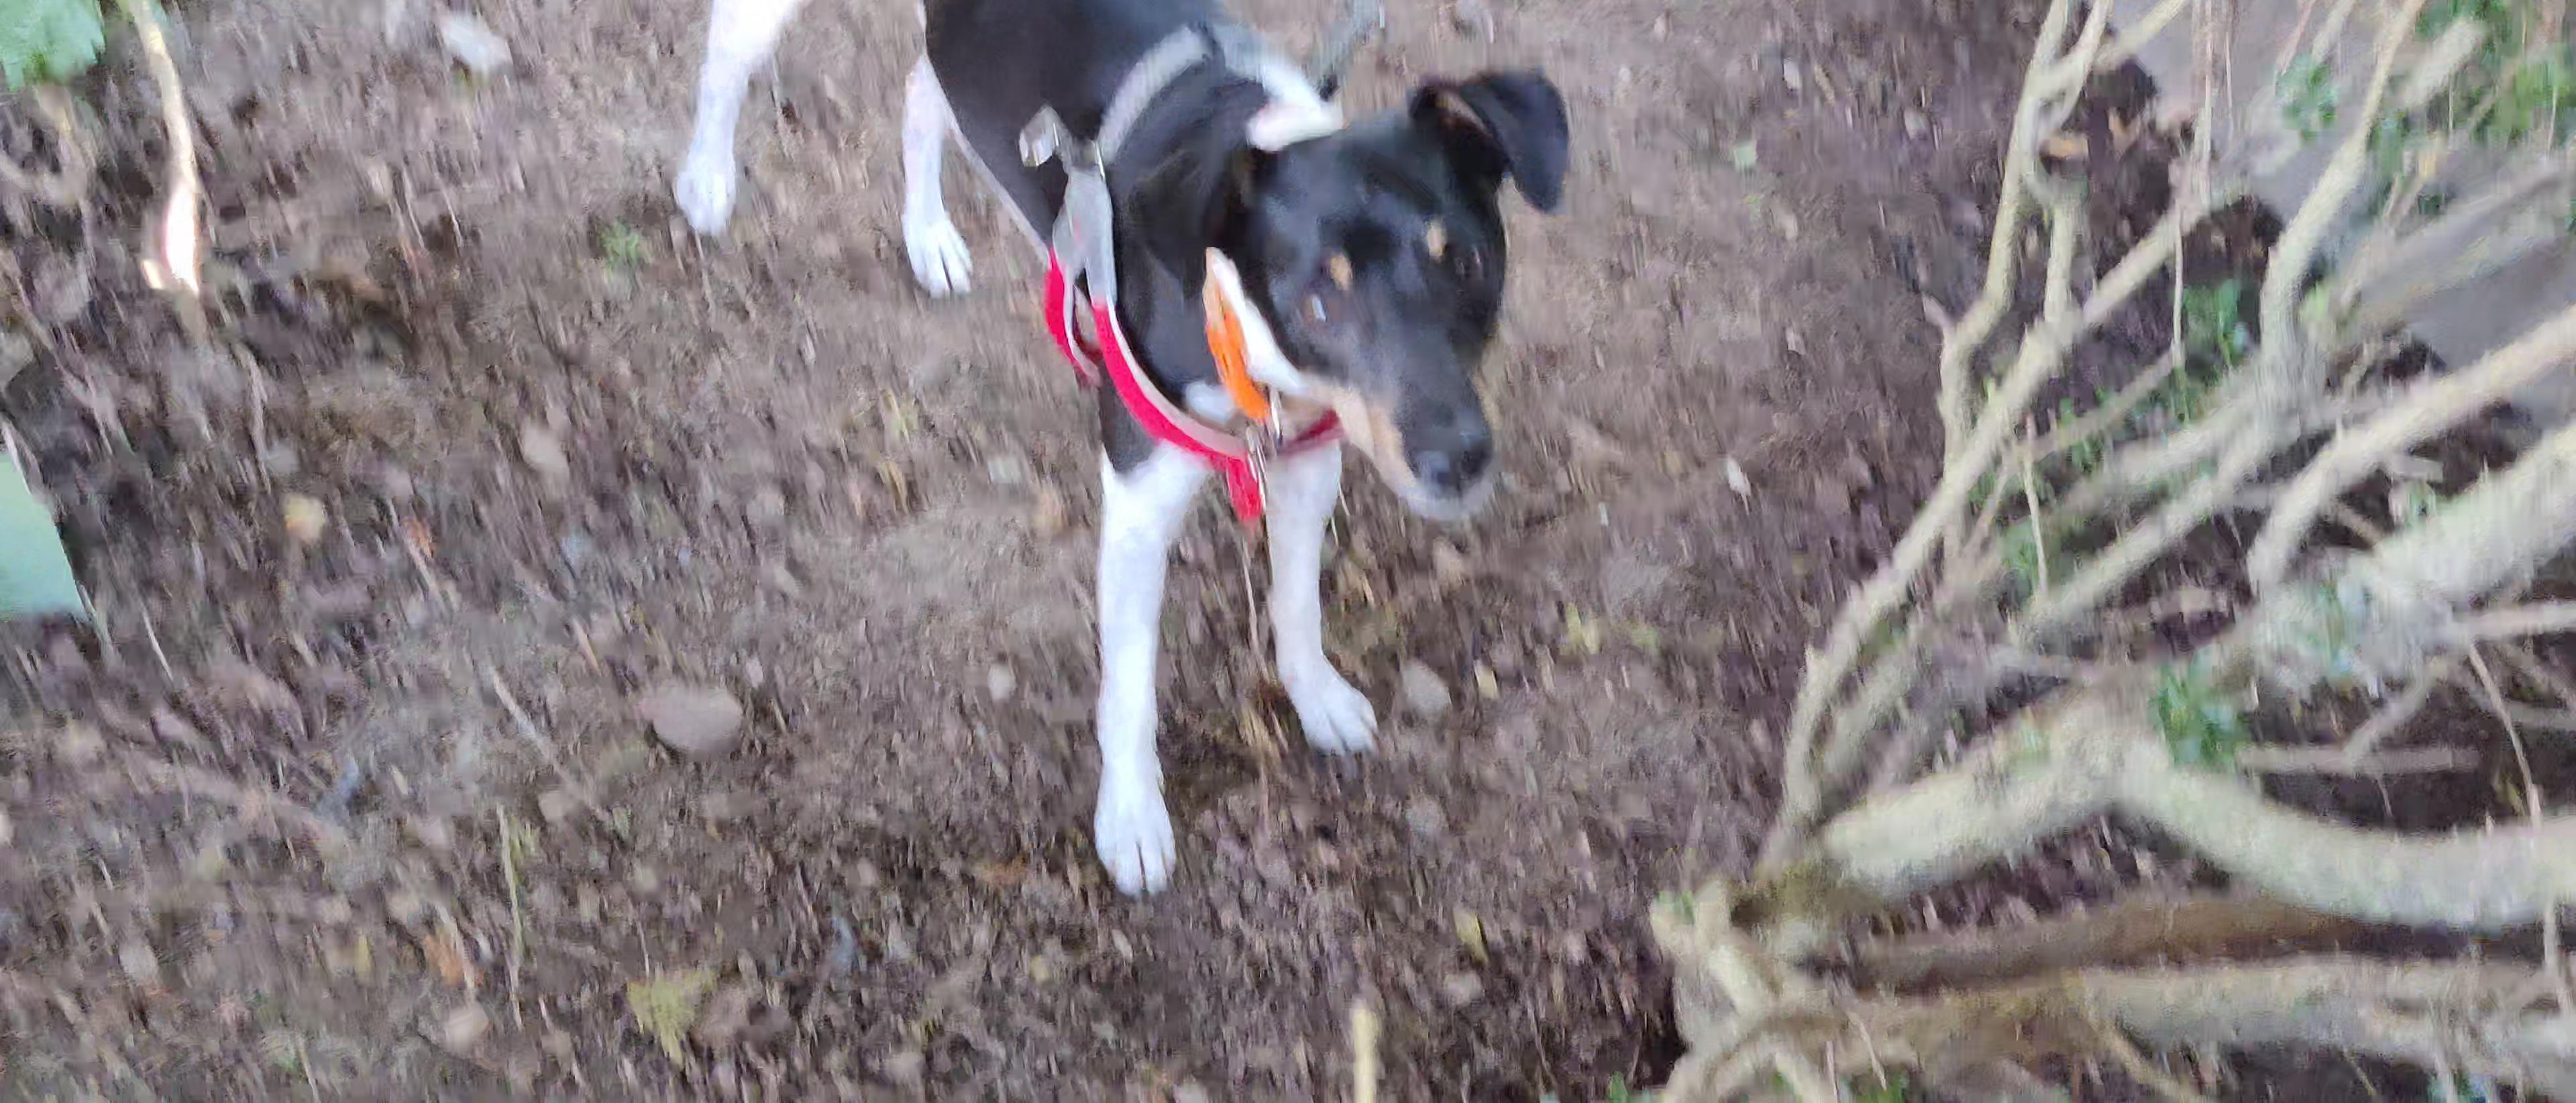Dog: (652, 0, 1598, 922)
